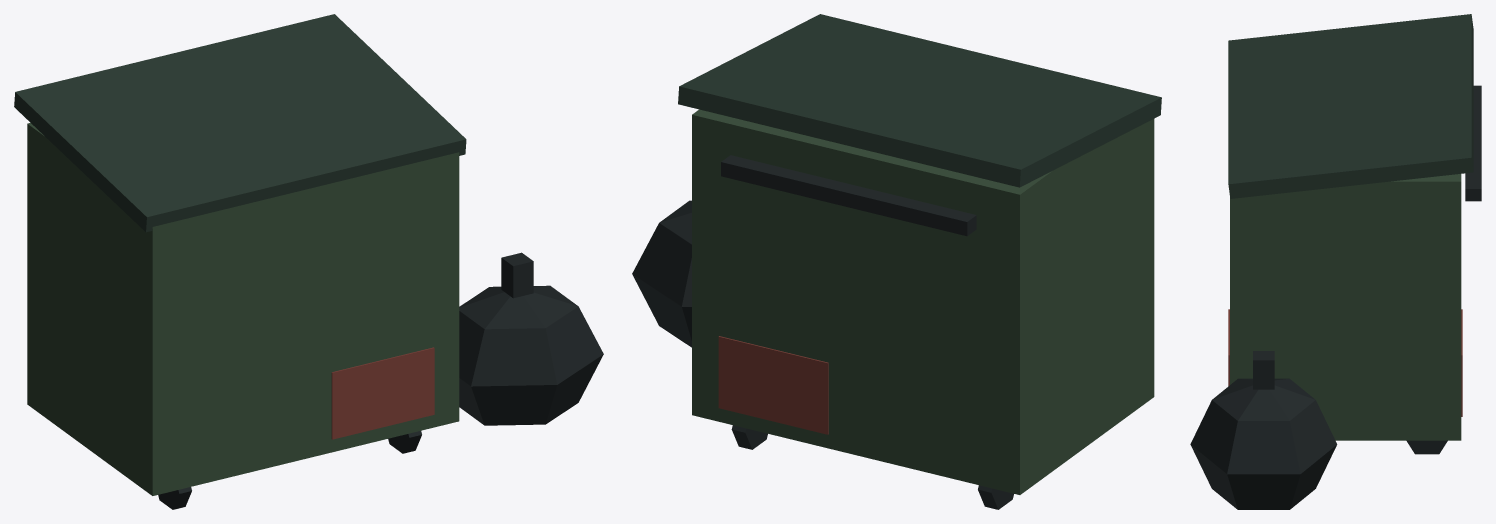
Rendered from tomberon.glb.
The picture shows the model from 3 angles, left to right: view 1: azimuth 30°, elevation 25°; view 2: azimuth 150°, elevation 25°; view 3: azimuth 270°, elevation 25°; orthographic projection. The views are drawn at different scales.
Visible parts, largest first — view 1: Tomberon; view 2: Tomberon; view 3: Tomberon.
Part boxes in pixels (x1,y1,x2,y2): Tomberon: (14,14,603,509); Tomberon: (632,14,1161,509); Tomberon: (1190,14,1481,509).
Size of the model in its own units: 1.78 by 1.29 by 1.07.
